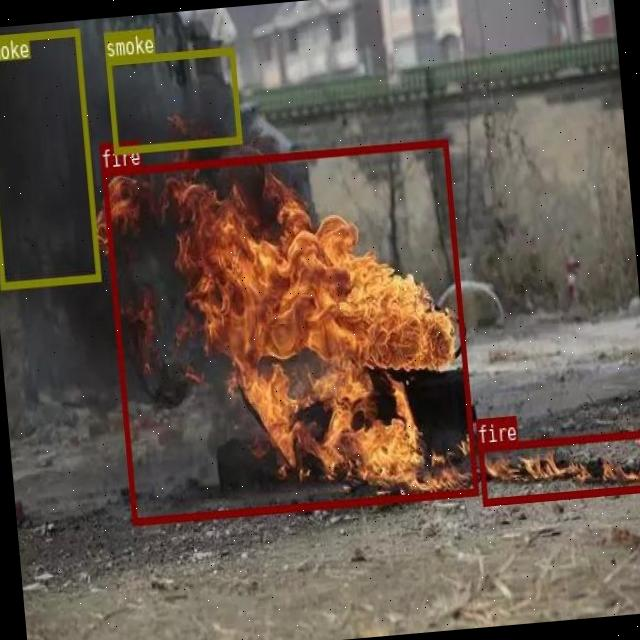fire: (101, 138, 478, 523), (477, 429, 640, 503)
smoke: (0, 28, 100, 289), (104, 45, 240, 154)
